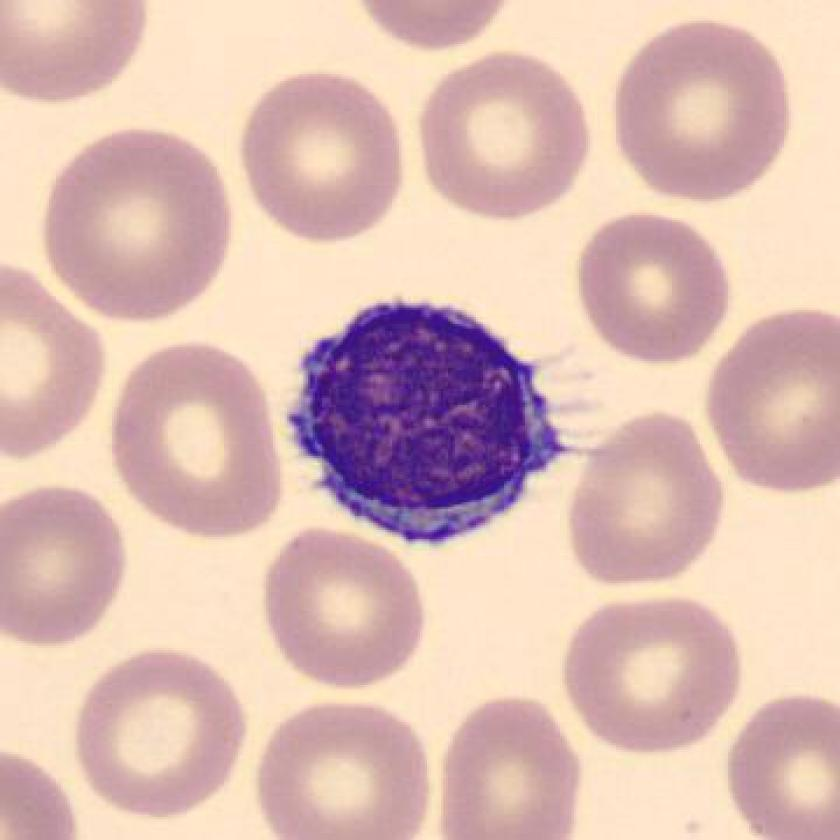lymphocyte: (272, 272, 587, 568)
